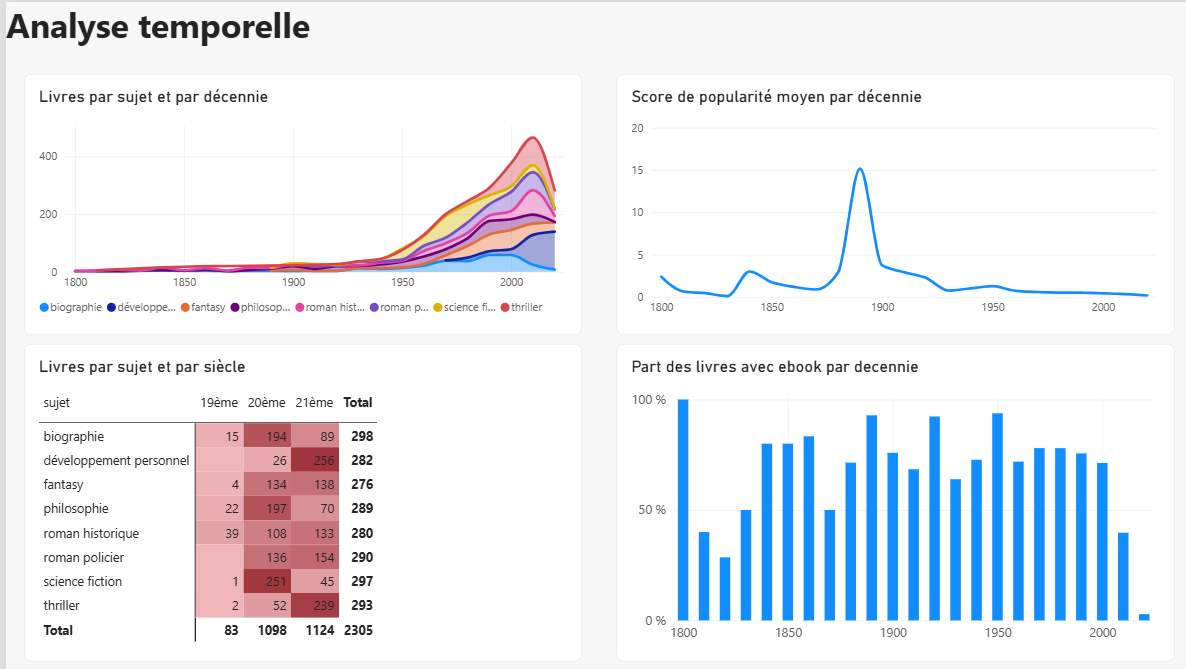

The dashboard page shown, as its layout file describes it:
{"tool":"powerbi","page":{"name":"Analyse temporelle","canvas":[1920,1080],"ordinal":1},"visuals":[{"type":"stackedAreaChart","title":"Livres par sujet et par décennie","fields":{"Category":["Fact_Livres.decennie"],"Series":["Fact_Livres.sujet"],"Y":["_Mesures.Nb Livres"]},"box":[20,80,620,290],"z":0},{"type":"lineChart","title":"Score de popularité moyen par décennie","fields":{"Category":["Fact_Livres.decennie"],"Y":["_Mesures.Score Popularité Moyen"]},"box":[677.5,80,620,290],"z":1000},{"type":"pivotTable","title":"Livres par sujet et par siècle","fields":{"Columns":["Fact_Livres.siecle"],"Rows":["Fact_Livres.sujet"],"Values":["_Mesures.Nb Livres"]},"box":[20,380,620,352.5],"z":2000},{"type":"clusteredColumnChart","title":"Part des livres avec ebook par decennie","fields":{"Category":["Fact_Livres.decennie"],"Y":["_Mesures.% Ebooks"]},"box":[677.5,380,620,352.5],"z":3000},{"type":"textbox","box":[0,0,1280,70],"z":4000}]}

Visuals, with their boxes in screenshot pixels (x1, y1, x2, y2), scaled from the page's 1920x1080 canvas onto the 1186x669 screenshot:
"Livres par sujet et par décennie" stackedAreaChart: l=12, t=50, r=395, b=229
"Score de popularité moyen par décennie" lineChart: l=418, t=50, r=801, b=229
"Livres par sujet et par siècle" pivotTable: l=12, t=235, r=395, b=454
"Part des livres avec ebook par decennie" clusteredColumnChart: l=418, t=235, r=801, b=454
textbox: l=0, t=0, r=791, b=43
